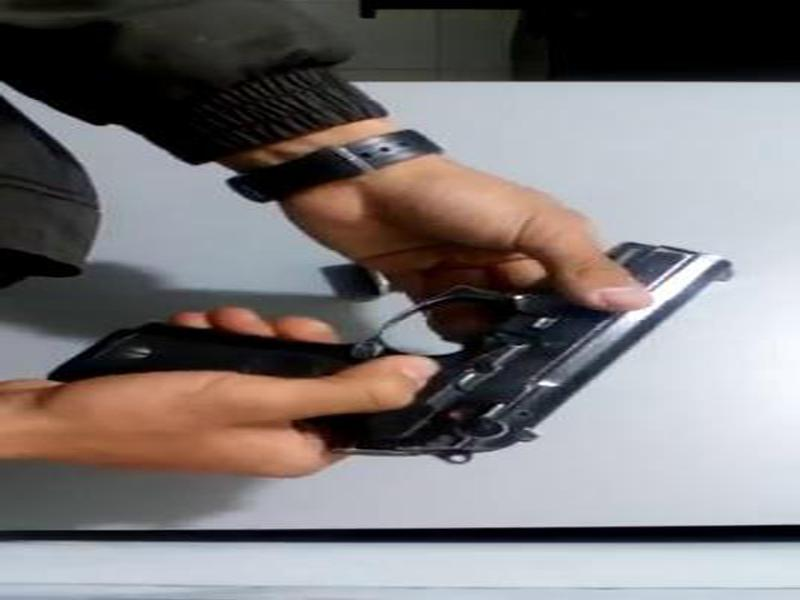Pistola: (96, 186, 722, 441)
